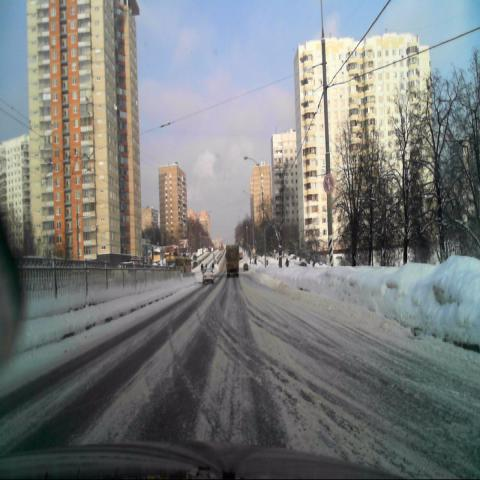3_29: (323, 174, 335, 196)
